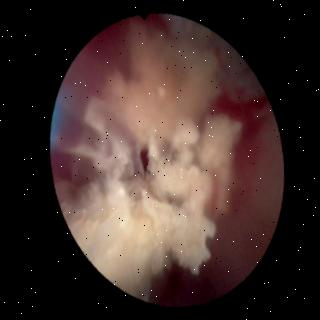stone: (58, 29, 214, 300), (199, 118, 237, 213)
